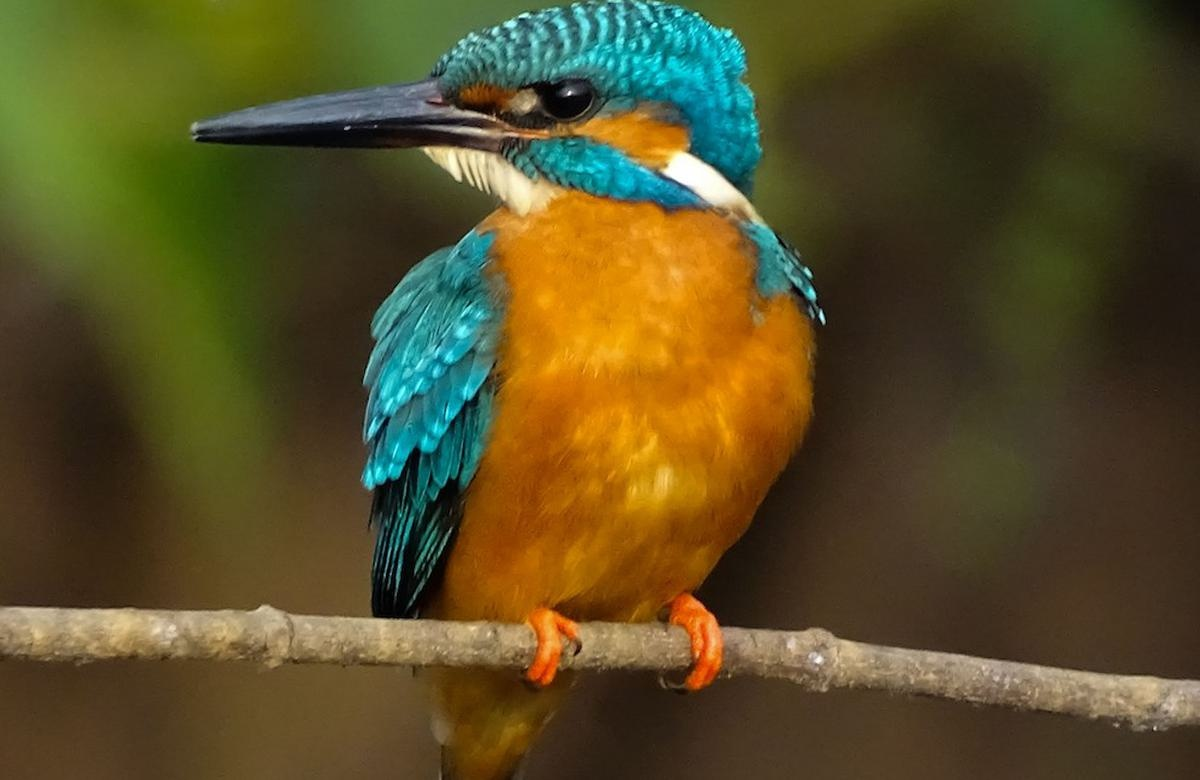kingfisher: (196, 6, 822, 696)
